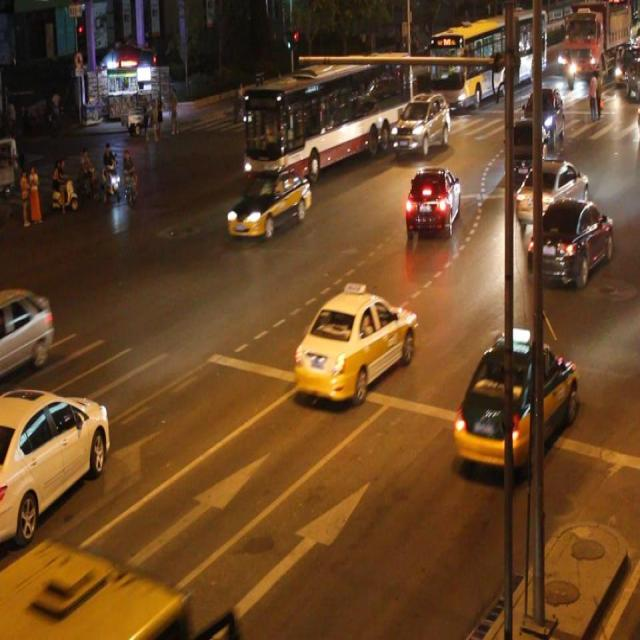car: (1, 388, 110, 541), (452, 334, 574, 468), (294, 288, 418, 398), (526, 198, 612, 281), (227, 167, 310, 240), (0, 286, 54, 376), (515, 157, 587, 221), (404, 164, 459, 239), (389, 92, 450, 156), (505, 118, 544, 191)
van: (245, 52, 412, 176)
